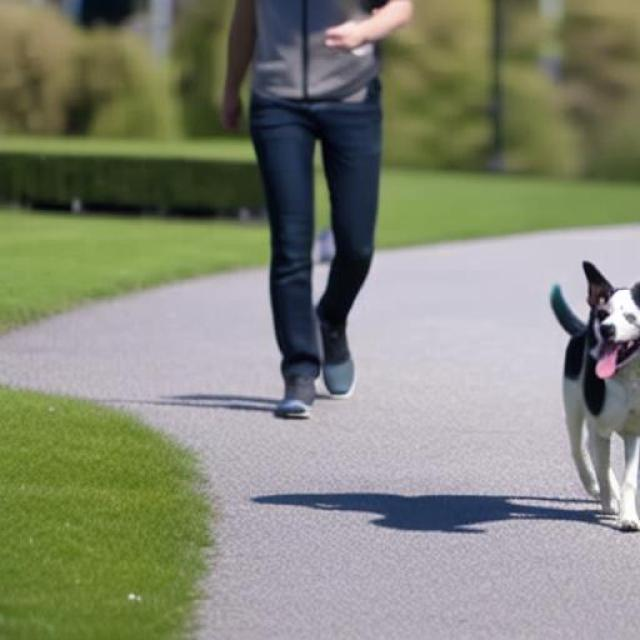Unleashed_Dog: (259, 48, 640, 532)
